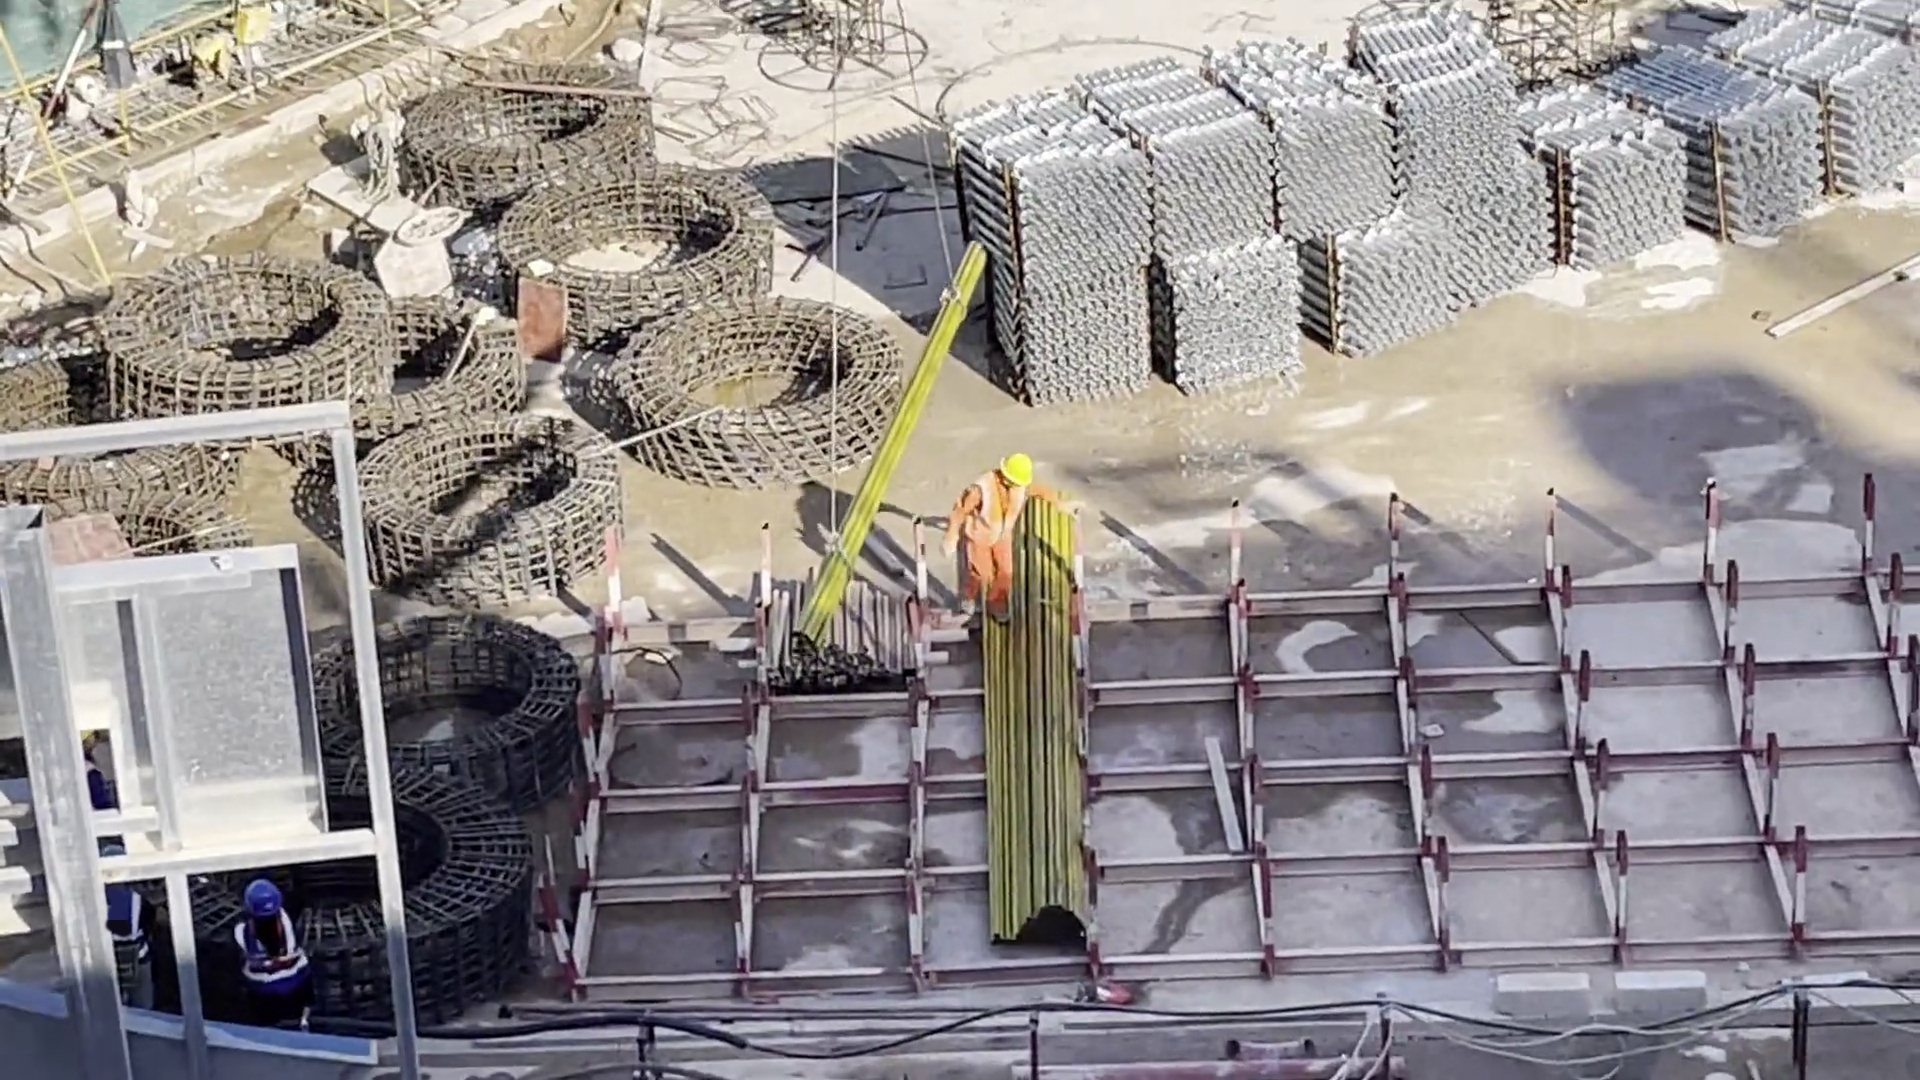helmet: (979, 436, 1043, 503)
person: (942, 445, 1045, 629)
scaffold: (935, 1, 1920, 411)
vest: (968, 478, 1039, 550)
